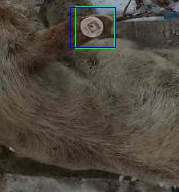text: (75, 6, 114, 48)
